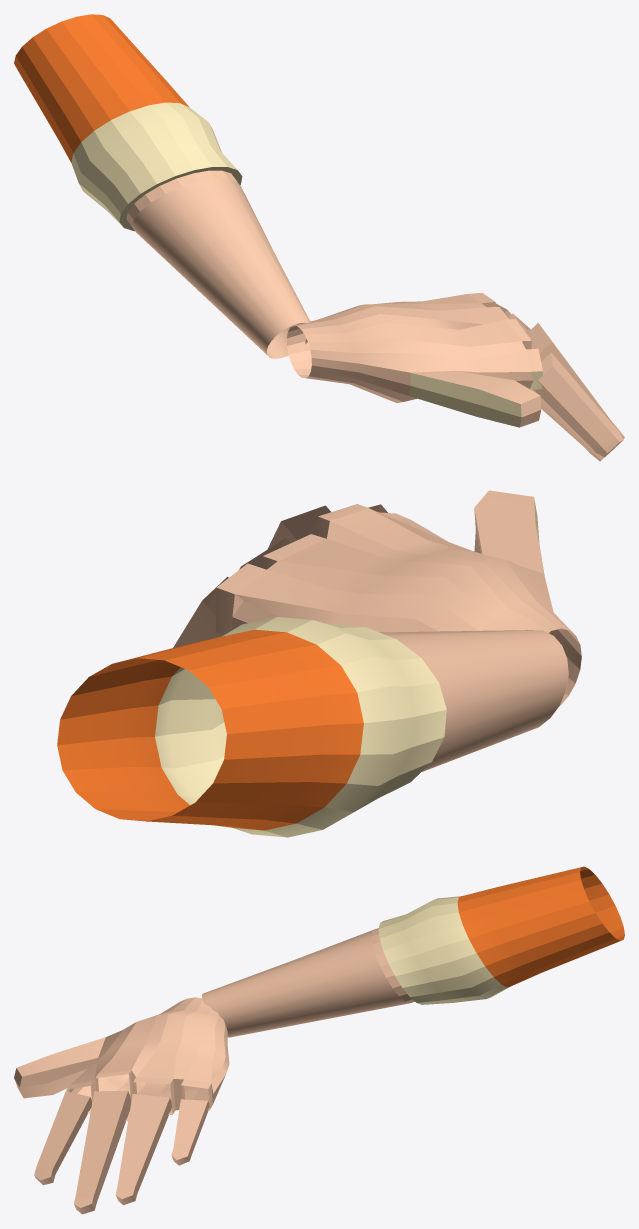
The model's file is brazoder.obj.
3 views of the same model, one above another, from view 1: azimuth 30°, elevation 25°; view 2: azimuth 150°, elevation 25°; view 3: azimuth 270°, elevation 25° (orthographic). The views are drawn at different scales.
Visible parts, largest first — view 1: polySurface30; view 2: polySurface30; view 3: polySurface30.
Part boxes in pixels (x1,y1,x2,y2): polySurface30: (14, 14, 624, 461); polySurface30: (57, 490, 581, 837); polySurface30: (14, 866, 624, 1214).
Size of the model in its own units: 0.4623 by 0.3972 by 0.8946.
1 material, 1 textured.
